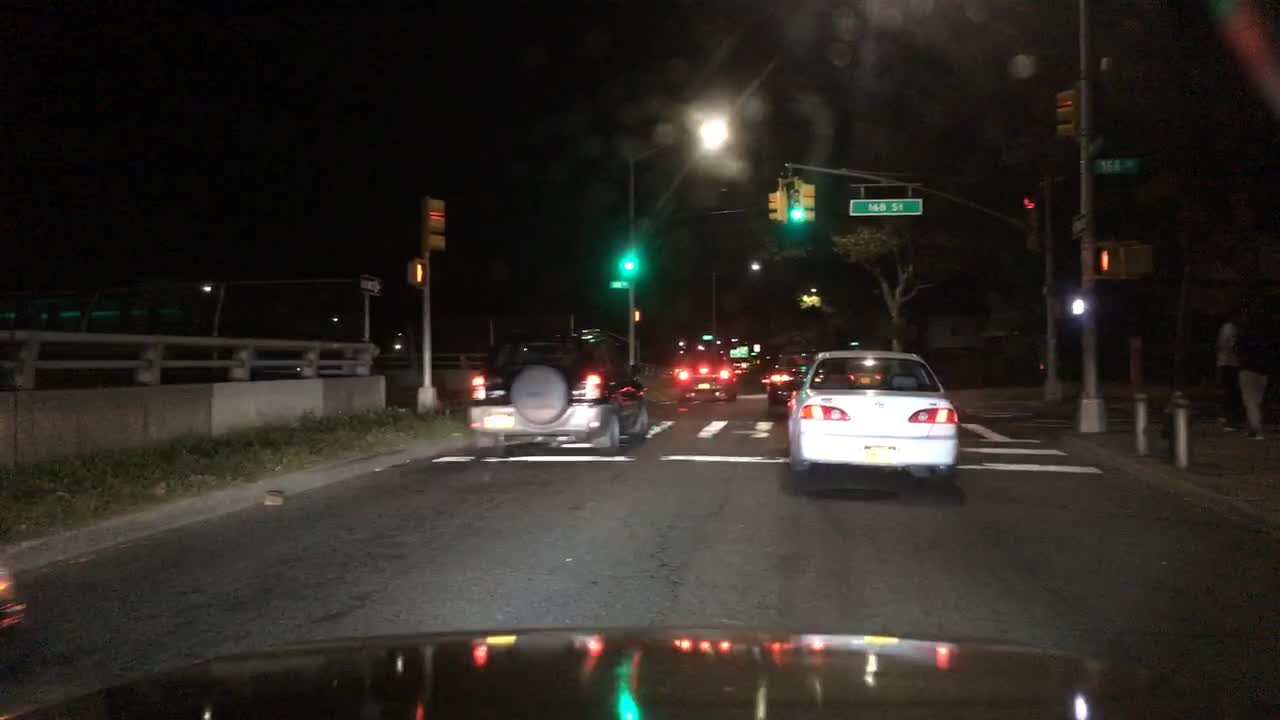car: (789, 353, 959, 491), (469, 337, 651, 454), (671, 348, 737, 407), (766, 349, 819, 408), (0, 562, 27, 636), (844, 358, 885, 390)
person: (1229, 282, 1276, 440), (1214, 316, 1238, 435)
traffic light: (1053, 77, 1079, 138), (421, 192, 446, 252), (1125, 244, 1159, 284), (1024, 187, 1043, 257), (1094, 241, 1125, 279), (617, 232, 638, 278), (789, 176, 806, 224), (767, 182, 784, 224), (406, 258, 426, 287), (1068, 288, 1086, 319), (806, 183, 816, 222)
traffic sign: (848, 197, 922, 217), (1093, 161, 1137, 177), (1070, 207, 1090, 242), (359, 272, 385, 298), (728, 344, 747, 359), (607, 282, 630, 290), (701, 332, 713, 342)
